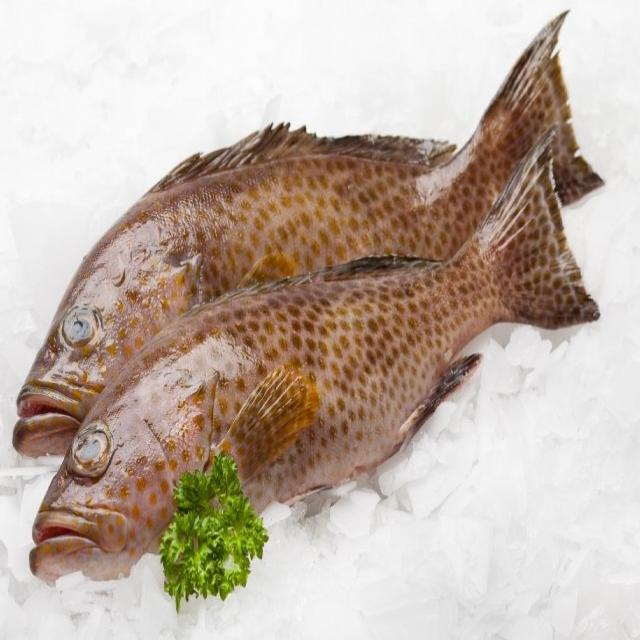grouper: (9, 13, 606, 452), (26, 134, 601, 586)
